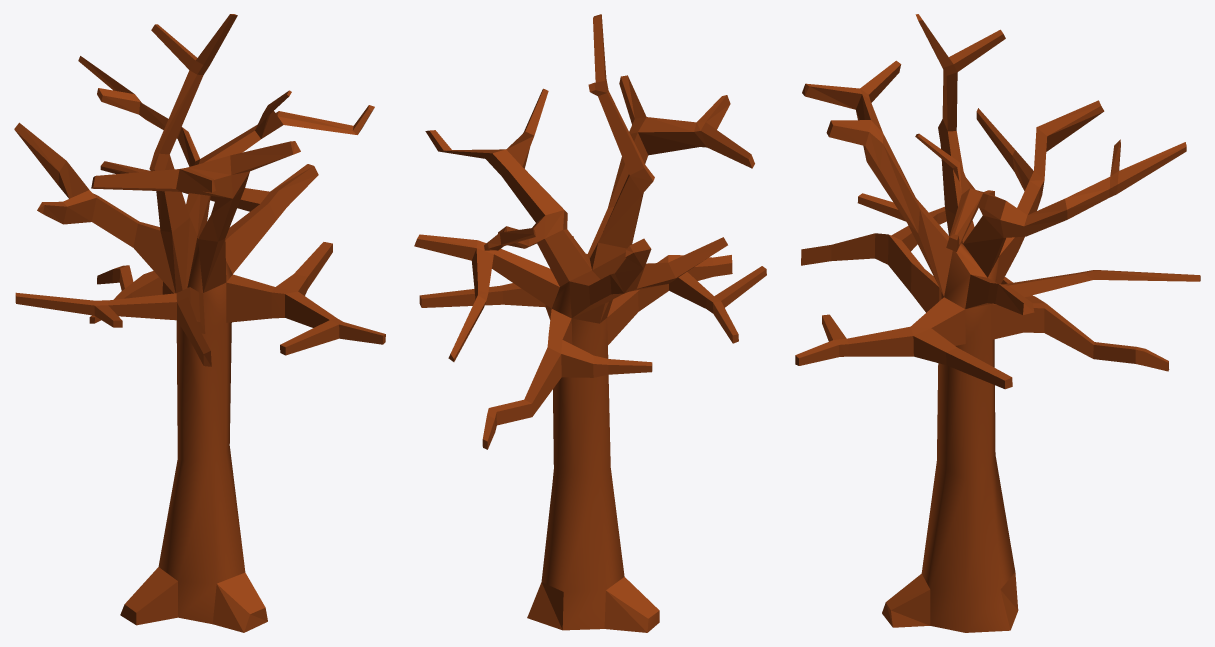
The model's file is baum_b003.FBX.
3 views of the same model, side by side, from view 1: azimuth 30°, elevation 25°; view 2: azimuth 150°, elevation 25°; view 3: azimuth 270°, elevation 25° (orthographic). The views are drawn at different scales.
Visible parts, largest first — view 1: Baum_B003; view 2: Baum_B003; view 3: Baum_B003.
Part boxes in pixels (x1=…): Baum_B003: x1=14, y1=14, x2=385, y2=632; Baum_B003: x1=414, y1=14, x2=766, y2=632; Baum_B003: x1=795, y1=14, x2=1200, y2=632.
Size of the model in its own units: 19.53 by 32.82 by 20.05.
